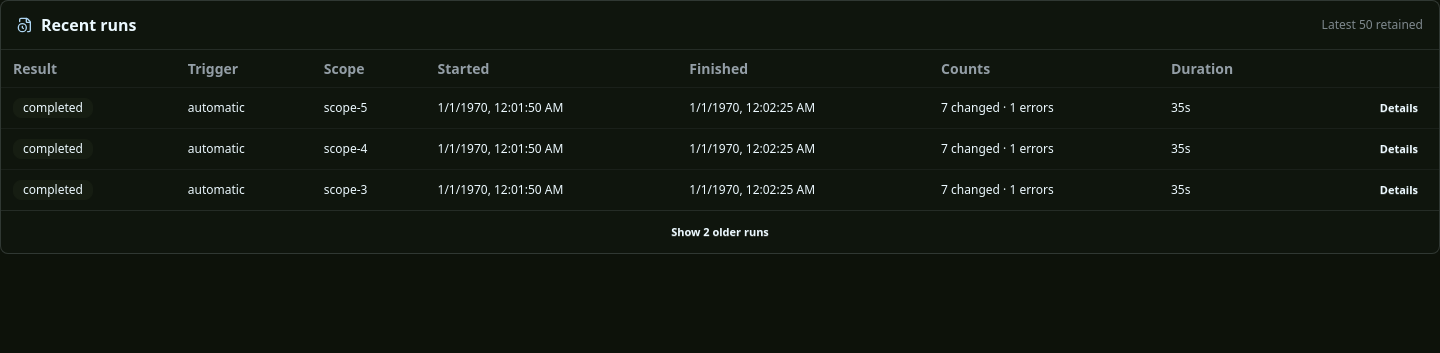
Test: LibraryRunHistory › shows three recent runs by default and keeps older audit history available
This screenshot has width=1440, height=353.
Expected: the text "scope-3" is shown, x1=312 y1=170 x2=426 y2=210
Click the button "Show 2 older runs" at (720, 233), box x1=662 y1=221 x2=778 y2=245
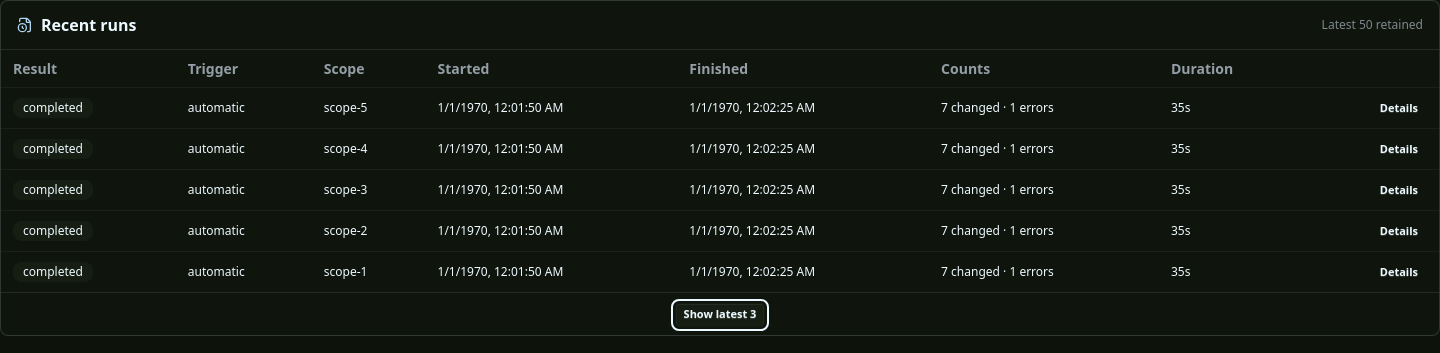
Now the text "scope-2" is shown, box x1=312 y1=211 x2=426 y2=252
Now the button "Show latest 3" is shown, box x1=675 y1=303 x2=765 y2=327
